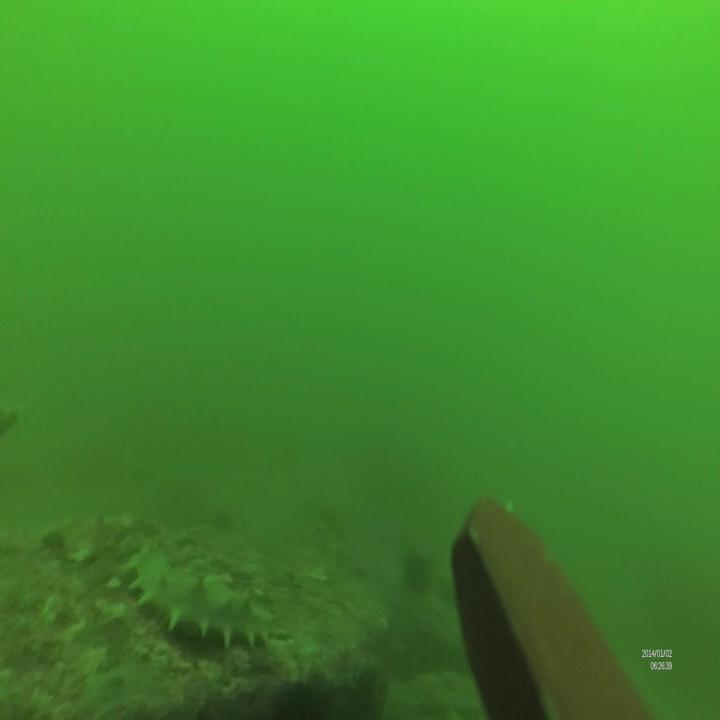echinus: (399, 548, 436, 599)
holothurian: (126, 546, 276, 649)
